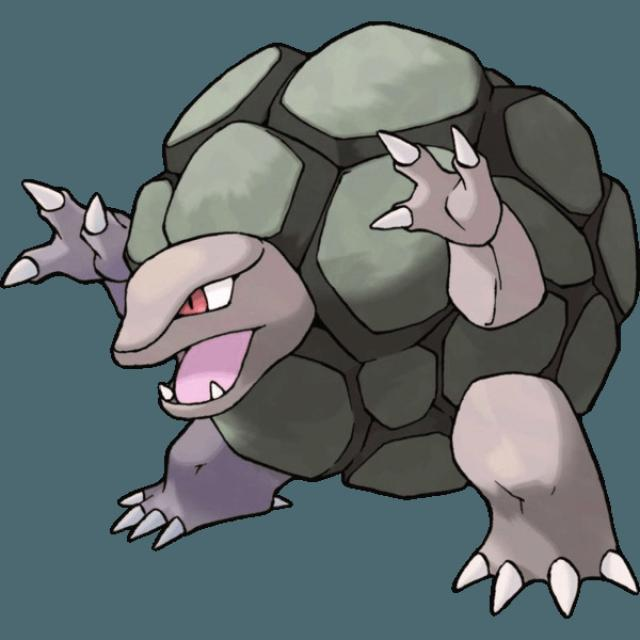Golem: (56, 28, 640, 516)
